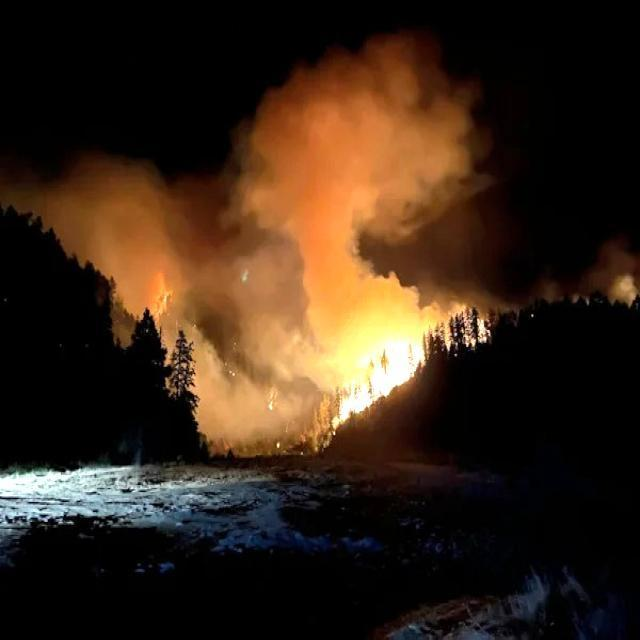Fire: (333, 316, 423, 418)
Smoke: (58, 24, 519, 398)
